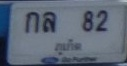txt01: (24, 11, 40, 34)
txt31: (41, 11, 57, 34)
